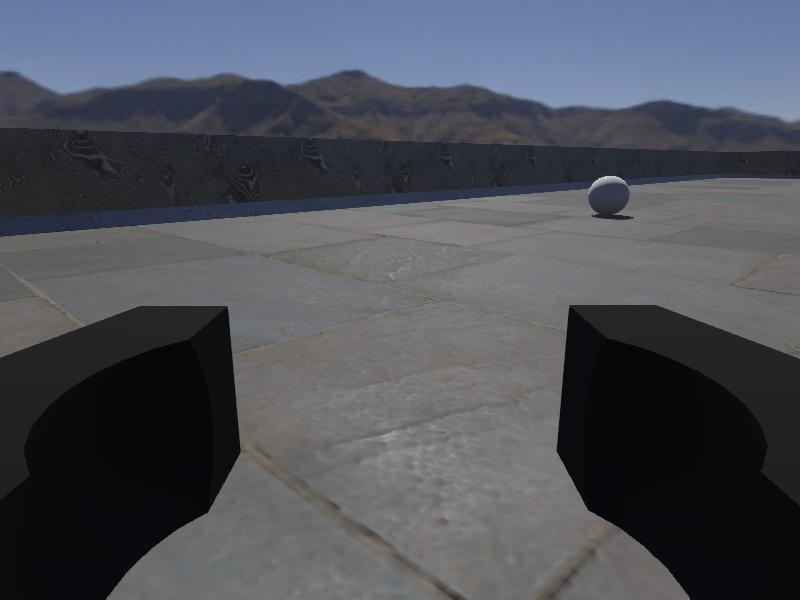white ball: (587, 173, 632, 218)
